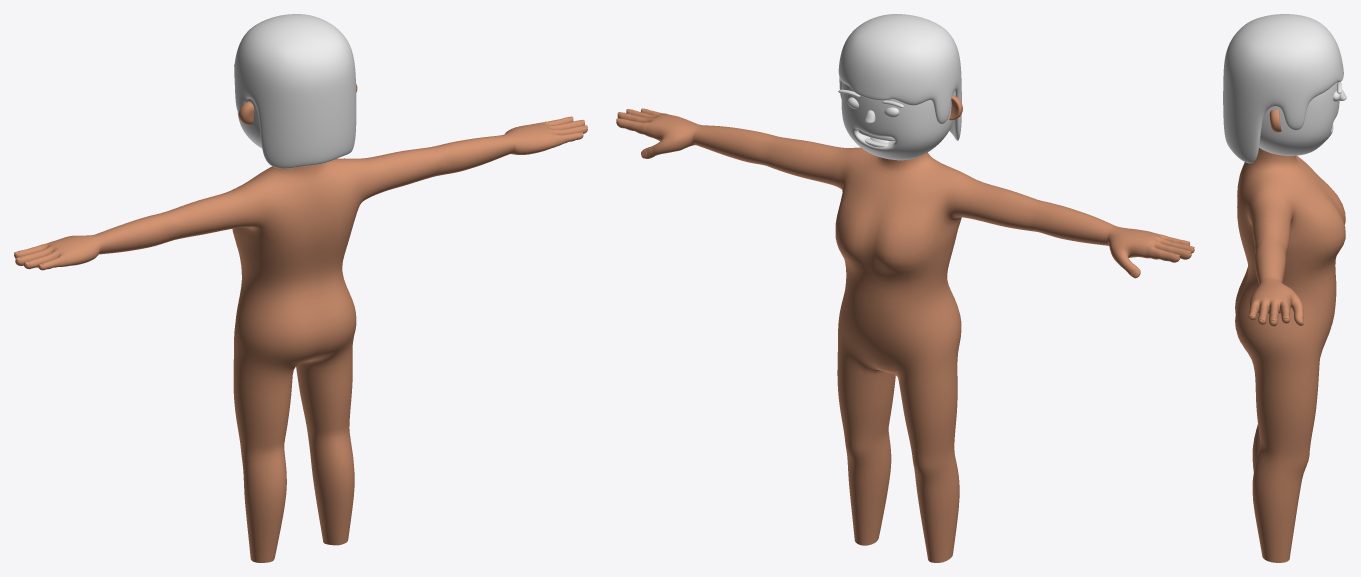
Rendered from DMS4-NPC-Design2.fbx.
3 views of the same model, side by side, from view 1: azimuth 30°, elevation 25°; view 2: azimuth 150°, elevation 25°; view 3: azimuth 270°, elevation 25° (orthographic).
Parts seen in each view (by area): view 1: body.001, Hair; view 2: body.001, Hair, Head; view 3: body.001, Hair, Head, EARS.001.
Part boxes in pixels (x1,y1,x2,y2): body.001: (14,116,587,562); Hair: (234,14,356,168); body.001: (616,108,1194,562); Hair: (838,14,961,140); Head: (841,82,955,160); body.001: (1235,148,1345,562); Hair: (1223,14,1343,163); Head: (1259,82,1339,155); EARS.001: (1269,109,1281,132).
Bounding box in the file's own units: 208 × 184 × 39.73.
